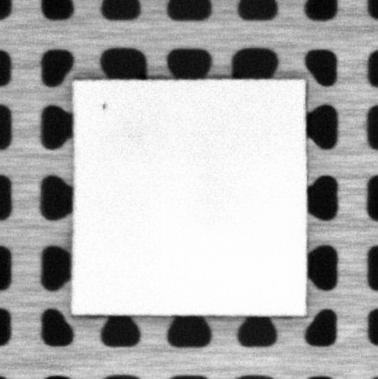DIE_INK: (101, 100, 108, 112)
